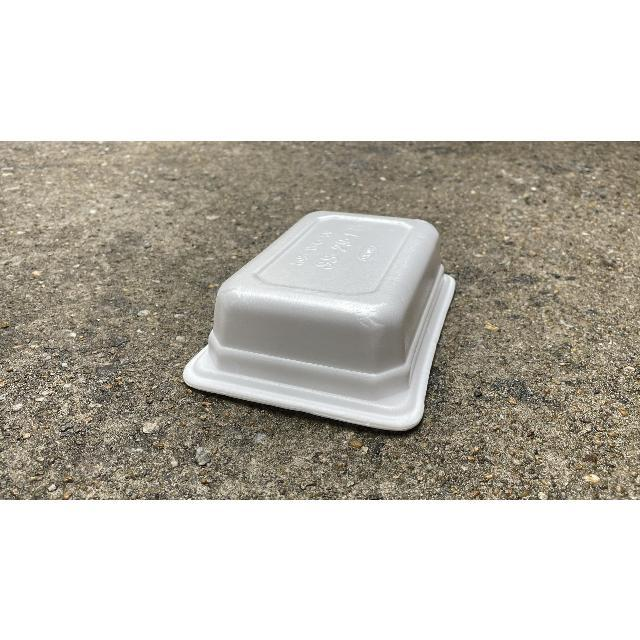Recipiente plastico: (184, 212, 455, 429)
